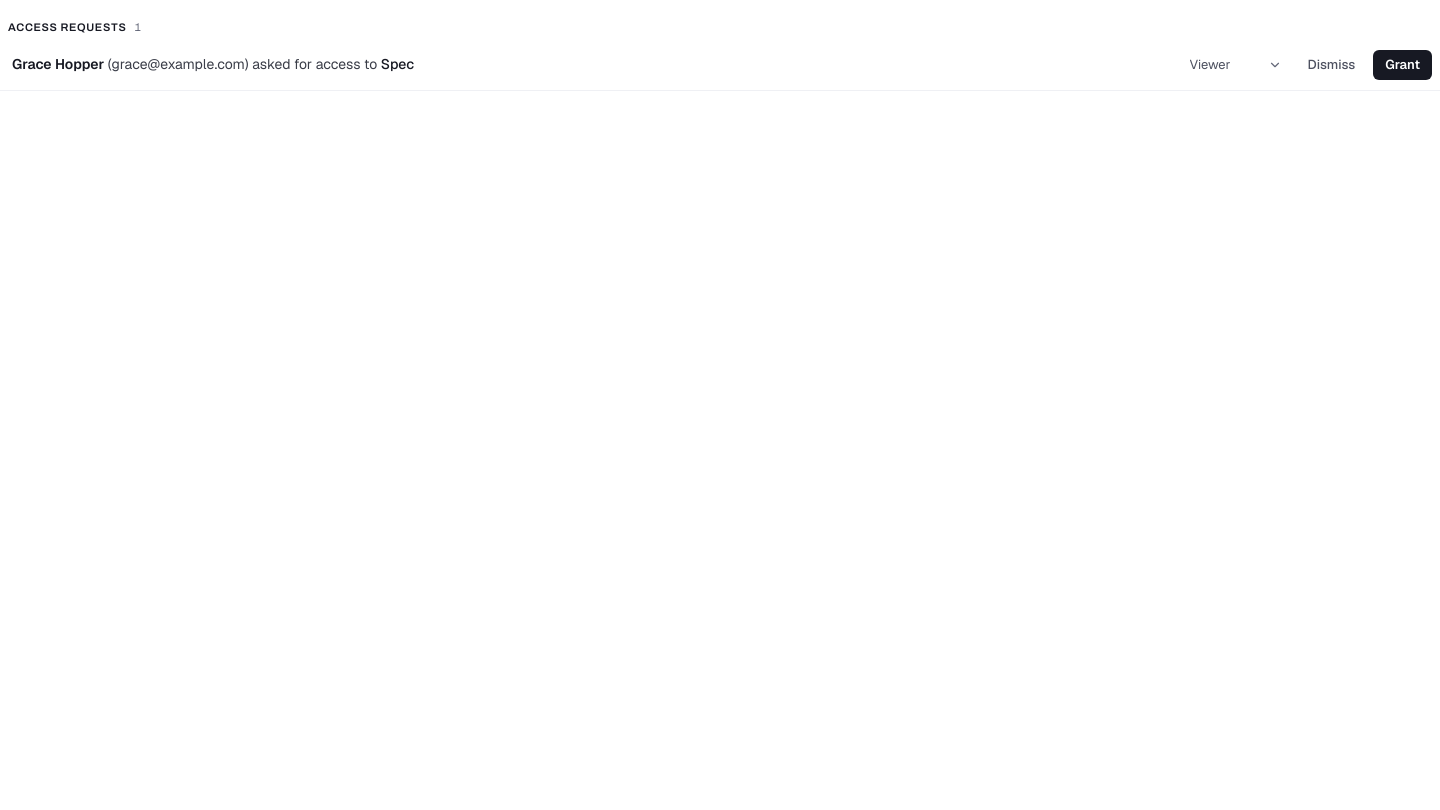
Scenario: AccessRequests › keeps the request and says why when the Grant is refused
Click the button "Grant". click: (1403, 65)
box: [1373, 50, 1432, 80]
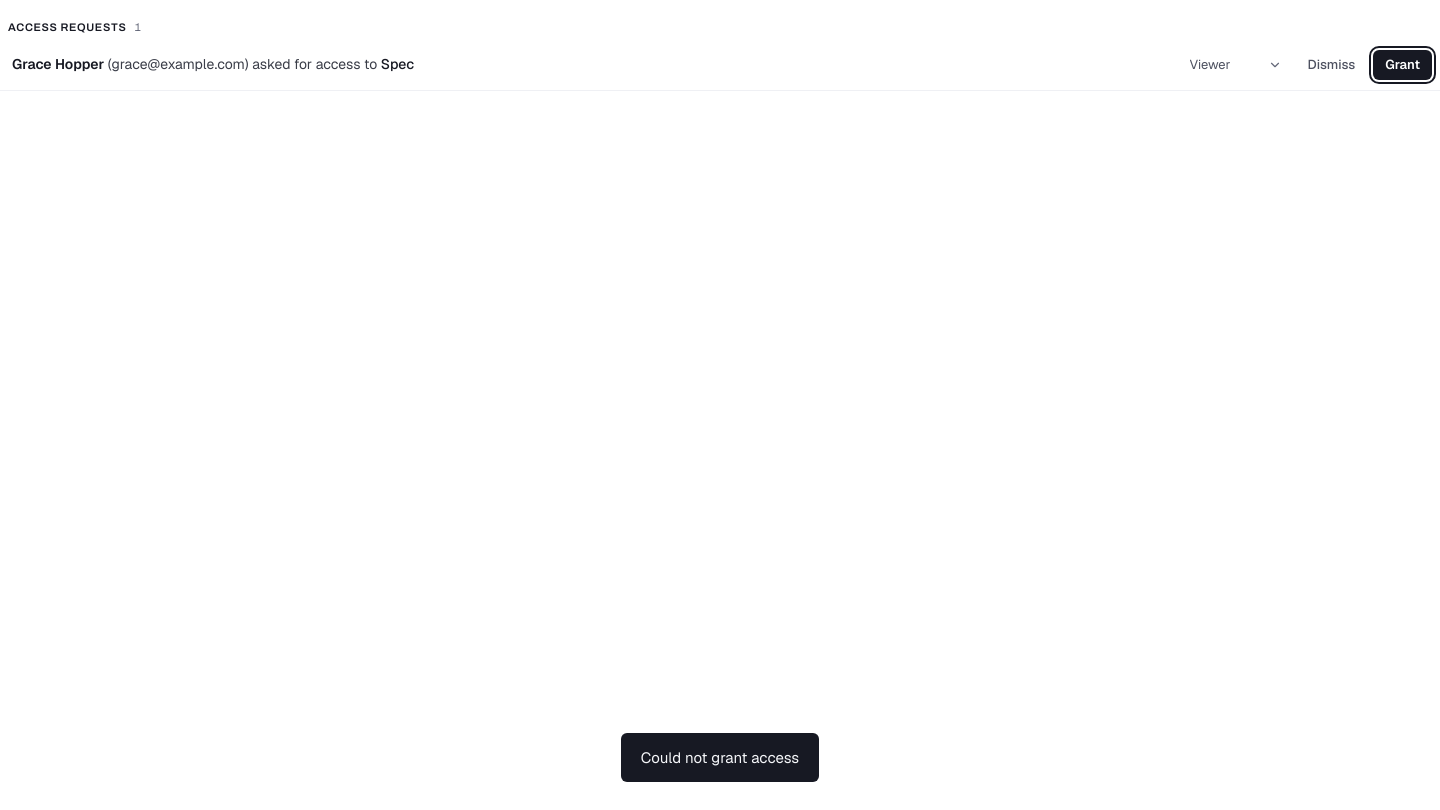
Check: the element "Access requests" is shown, box [0, 0, 1439, 91]
Check: the text "Could not grant access" is shown, box [621, 733, 819, 782]
